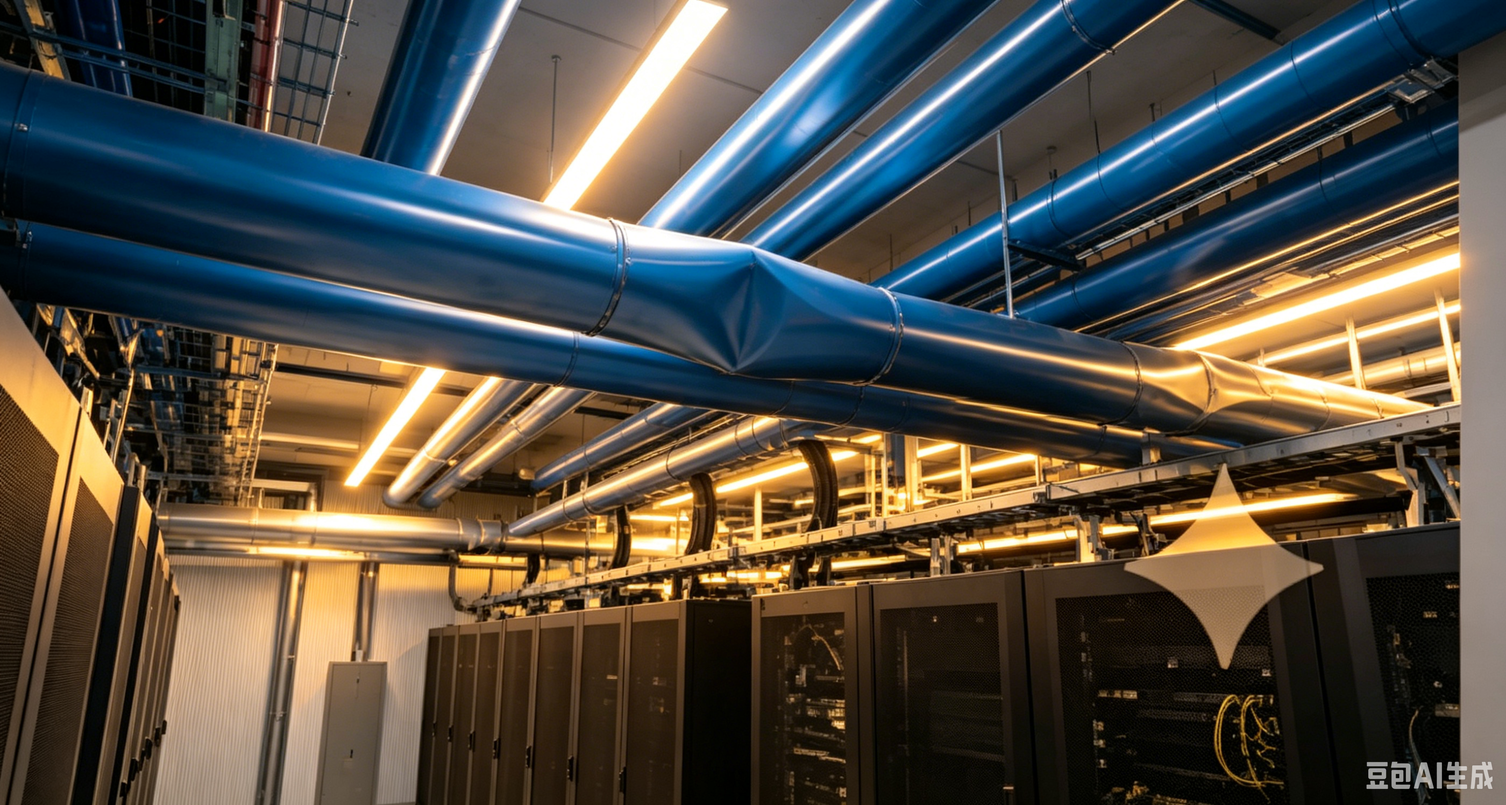Leakage: (657, 241, 815, 369), (1148, 356, 1294, 433)
